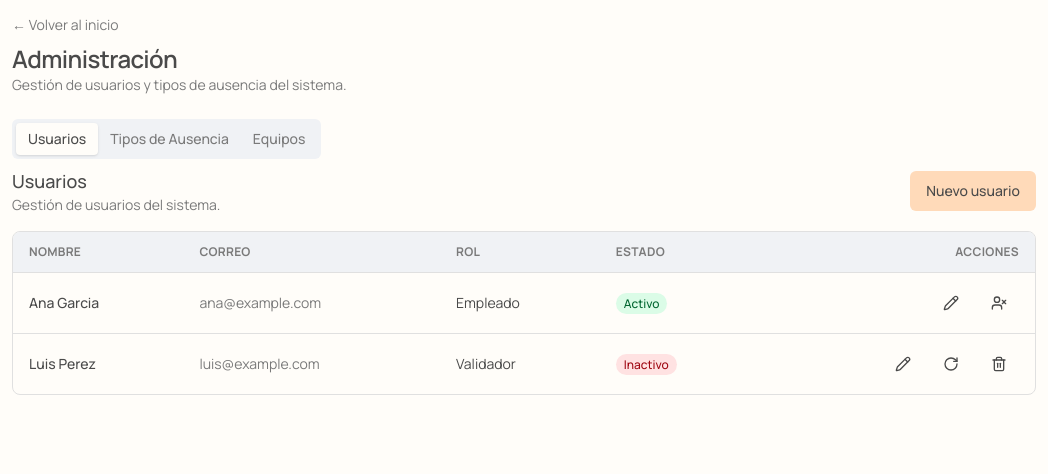
Test: AdminPage users tab › shows specific resend error when user is already active
Click the button named "Reenviar invitación a Luis Perez" at (951, 364), box [931,346,971,382]
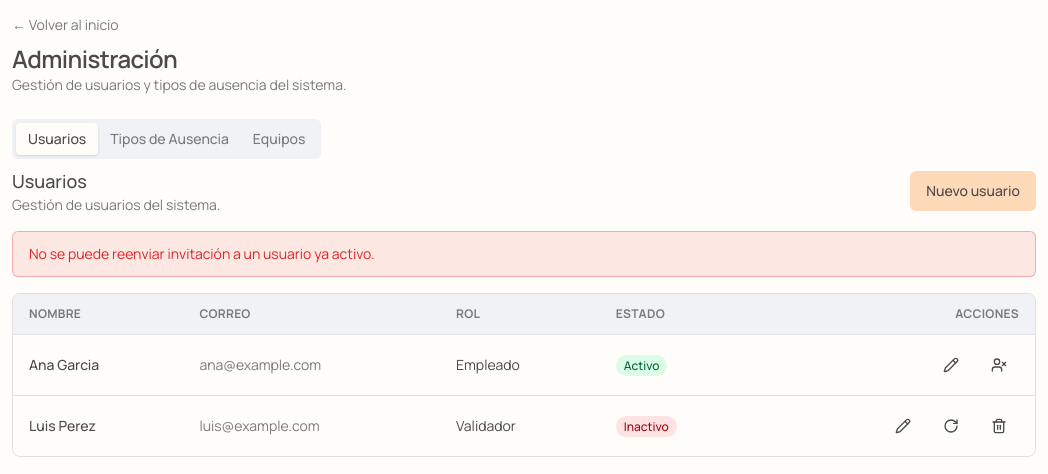
Expected: the text "No se puede reenviar invitación a un usuario ya activo." is shown, [12,231,1036,277]
